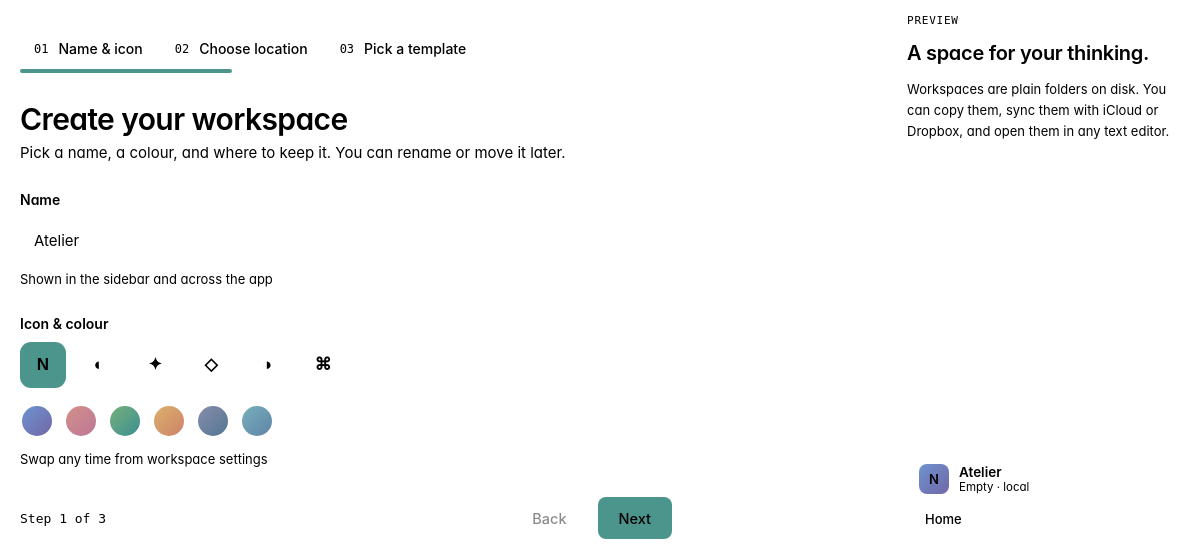
Scenario: onboarding workspace storage options › shows the typed name and the chosen template starters live in the preview
This screenshot has width=1186, height=556.
Replace the text in the field with id "workspace-name" with "Field notes" at (346, 240), box [20, 218, 672, 262]
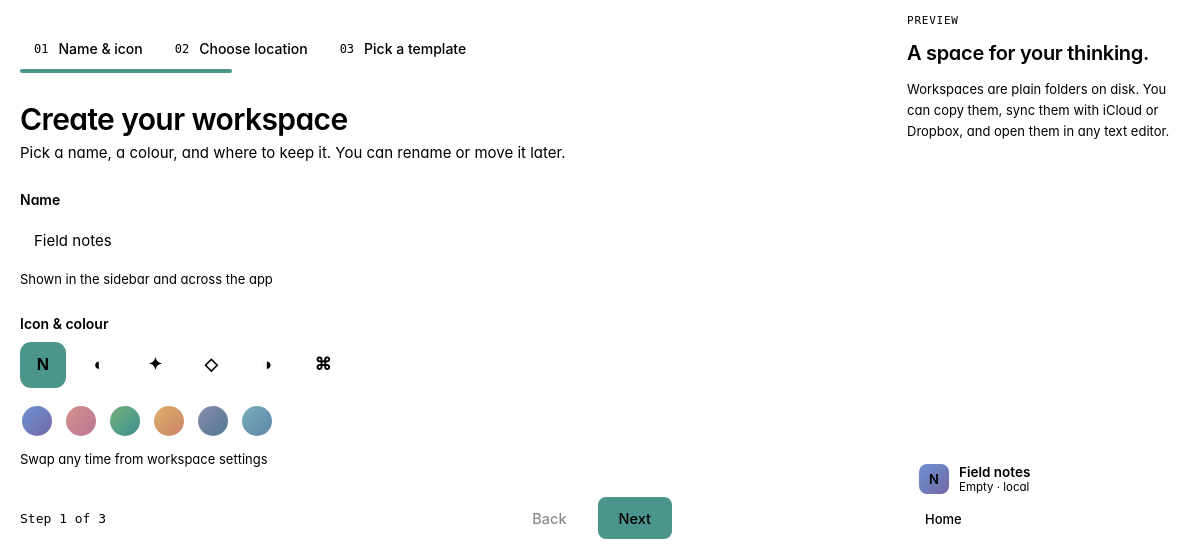
Click the button with class "footer-btn-next" at (635, 518), box [598, 497, 672, 539]
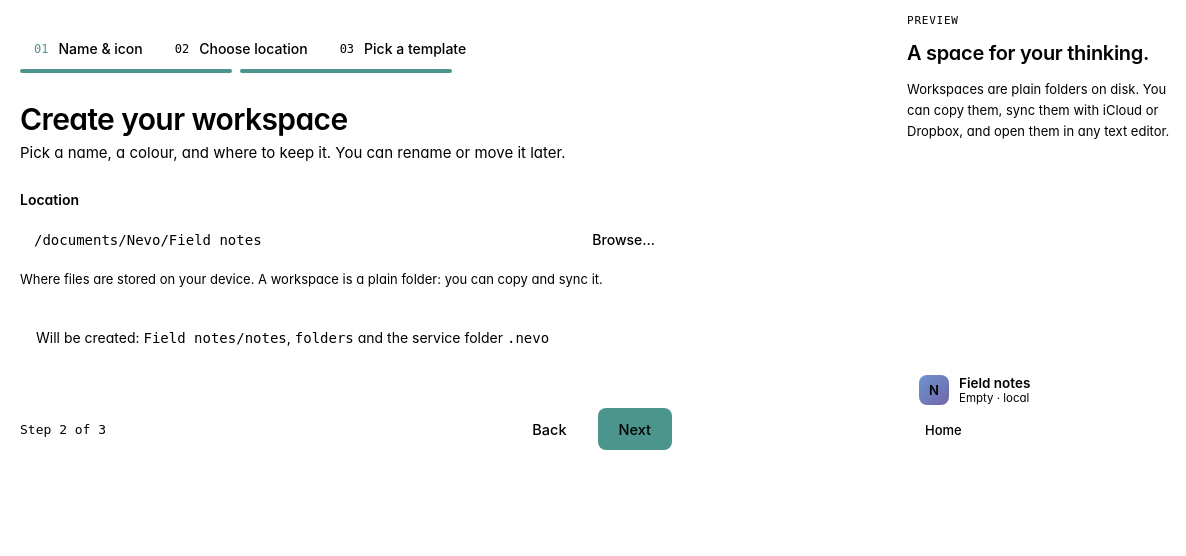
Click the button with class "footer-btn-next" at (635, 429), box [598, 408, 672, 450]
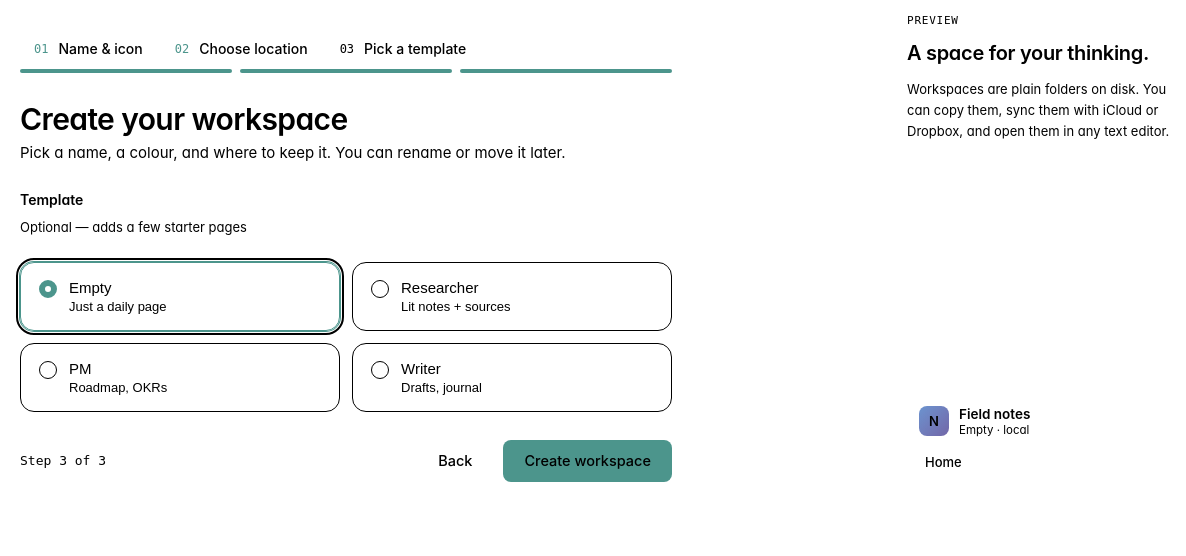
Click the radio button with class "cw-template-card" showing "Researcher Lit notes + sources" at (512, 296), box [352, 262, 672, 330]
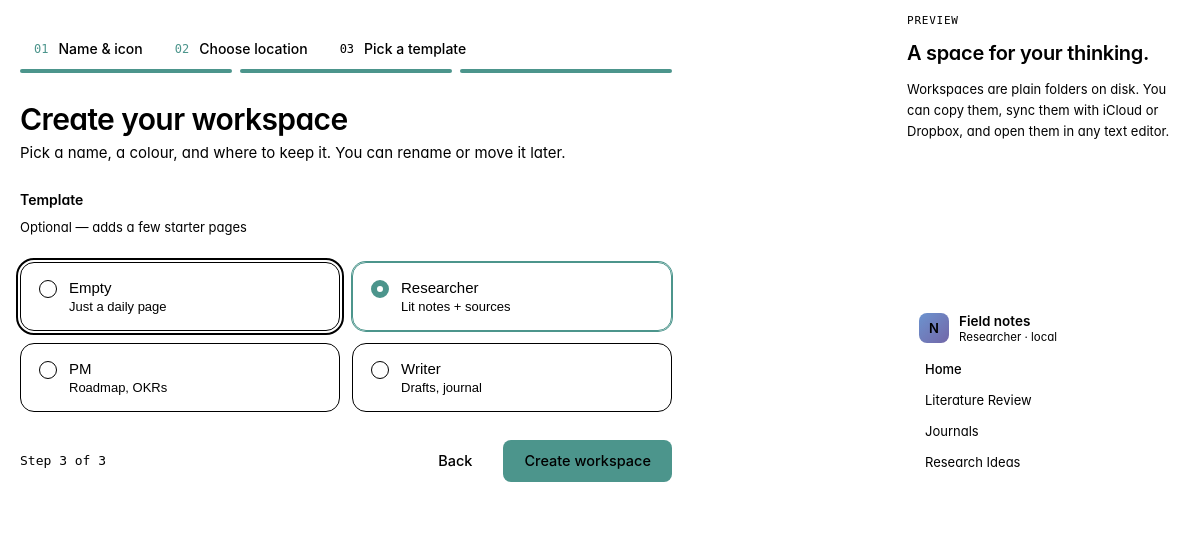
Check: the text with class "cw-ws-name" reads "Field notes", box [959, 313, 1030, 329]
Check: the element with class "cw-nav" shows "Literature Review", box [925, 392, 1032, 408]
Check: the element with class "cw-nav" shows "Journals", box [925, 422, 979, 438]
